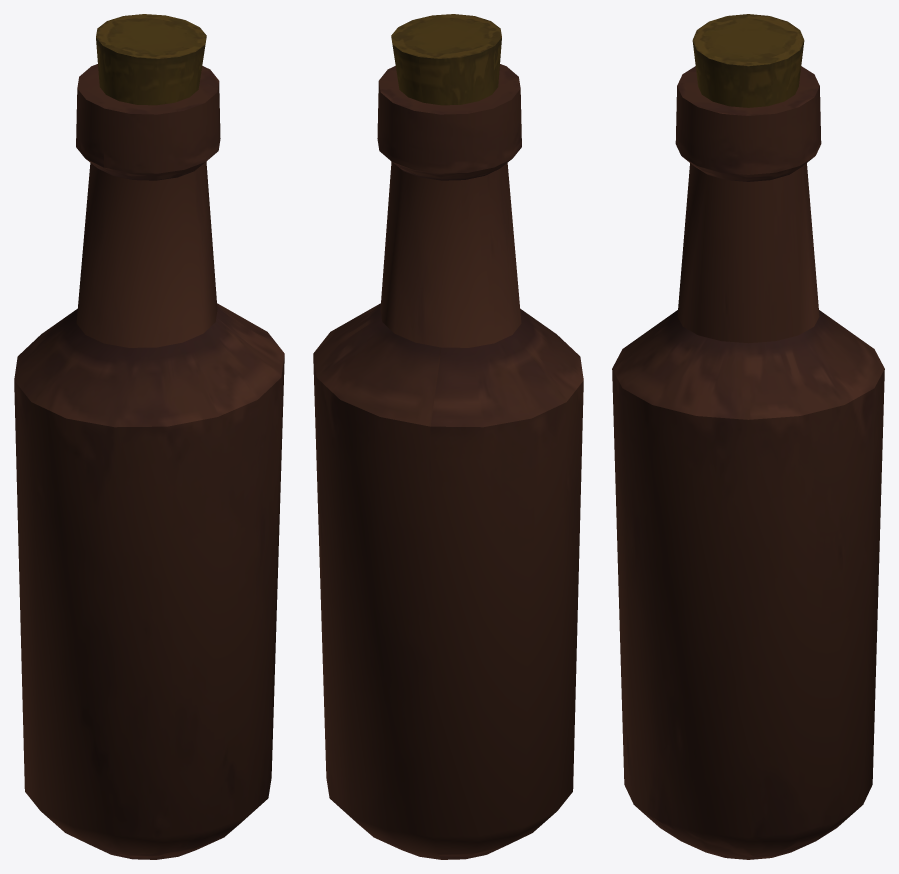
The model's file is Bottle_1.gltf.
3 views of the same model, side by side, from view 1: azimuth 30°, elevation 25°; view 2: azimuth 150°, elevation 25°; view 3: azimuth 270°, elevation 25° (orthographic).
Visible parts, largest first — view 1: Bottle_1; view 2: Bottle_1; view 3: Bottle_1.
Part boxes in pixels (box(x1,y1,x2,y2)): Bottle_1: box(14, 14, 284, 859); Bottle_1: box(313, 14, 583, 859); Bottle_1: box(612, 14, 884, 859).
Bounding box in the file's own units: 0.1127 × 0.3647 × 0.1129.
Materials: 1 (1 with a texture image).
